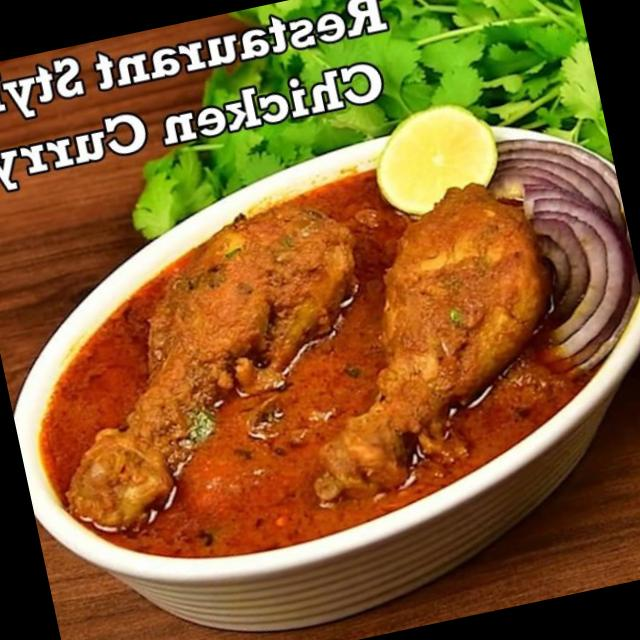chicken: (0, 138, 565, 589)
